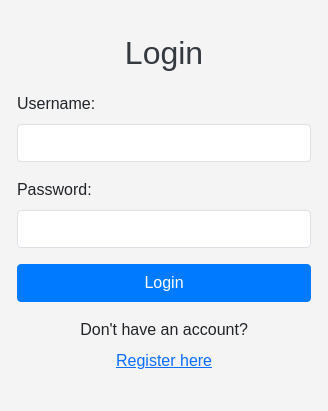
Scenario: should show an error message when login fails
Type "testuser" into the field labelled "Username:" at (164, 143), box [17,124,311,162]
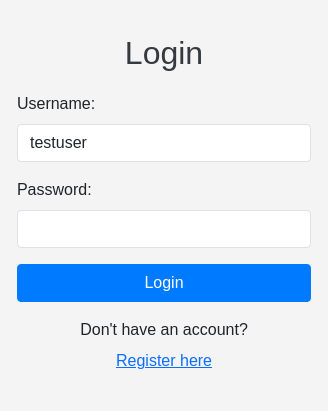
Type "wrongpassword" into the password field labelled "Password:" at (164, 229), box [17,210,311,248]
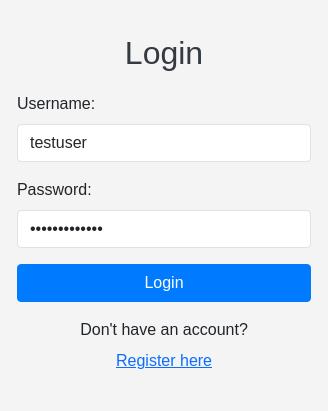
Click the button "Login" at (164, 283), box [17,264,311,302]
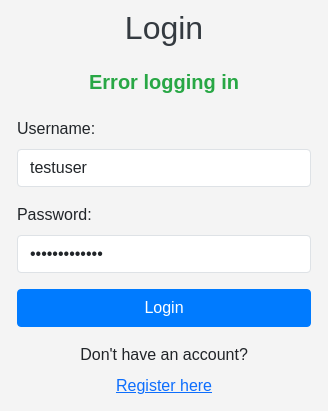
Expected: the text "Error logging in" is shown, [89,71,239,93]
